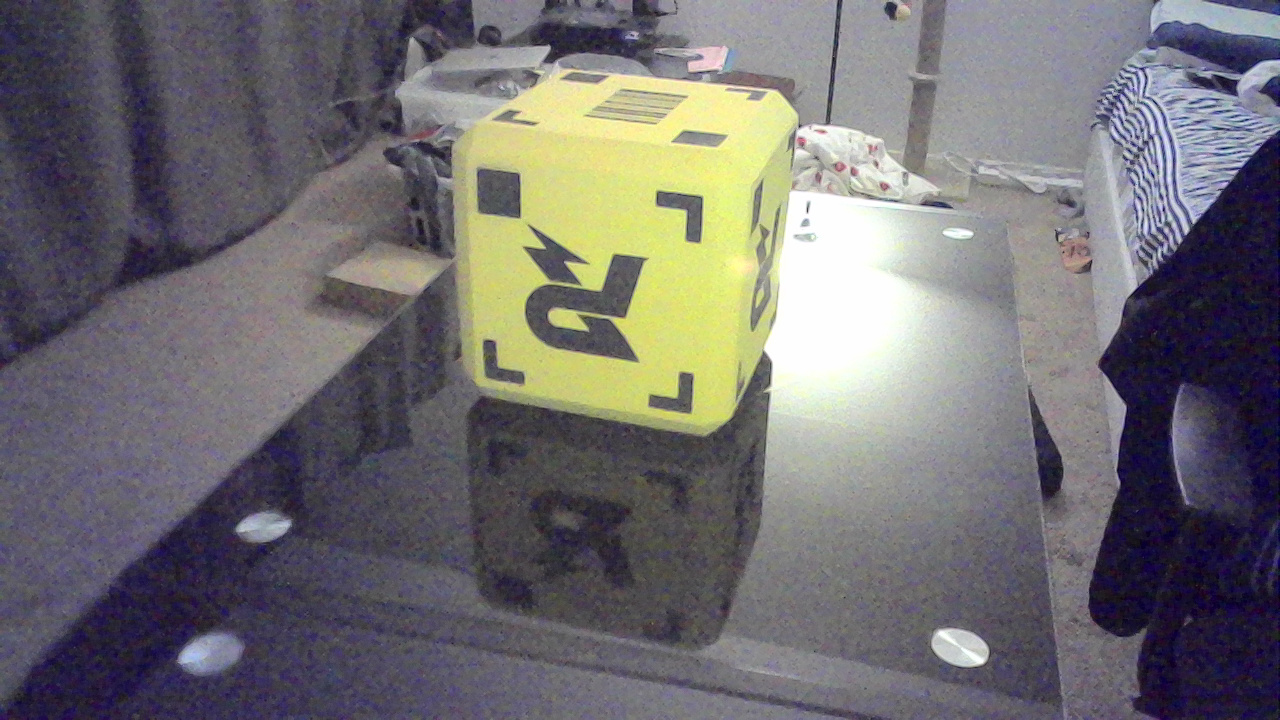Barcode: (582, 88, 703, 139)
R: (523, 215, 657, 375), (747, 206, 792, 348)
